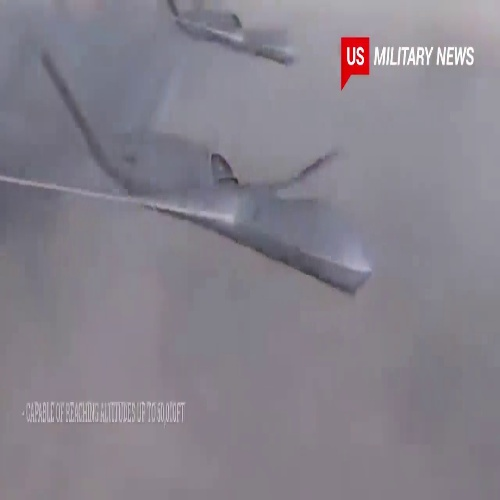uav653: (1, 42, 381, 300), (164, 1, 298, 69)
